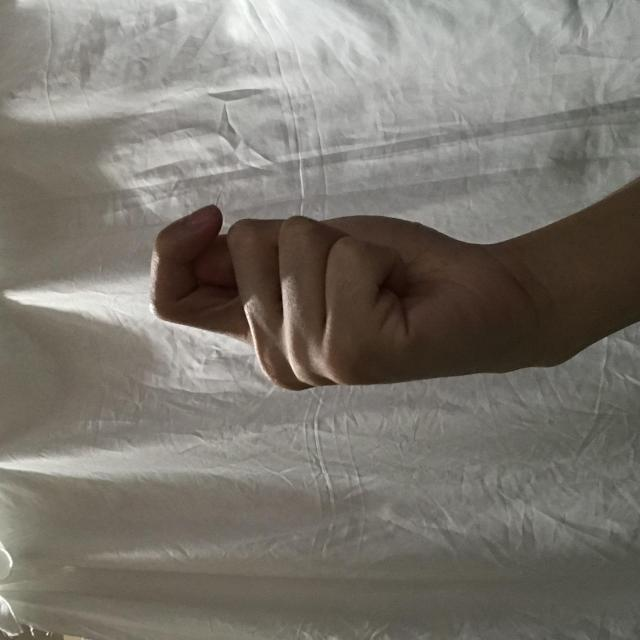T: (248, 145, 436, 536)
